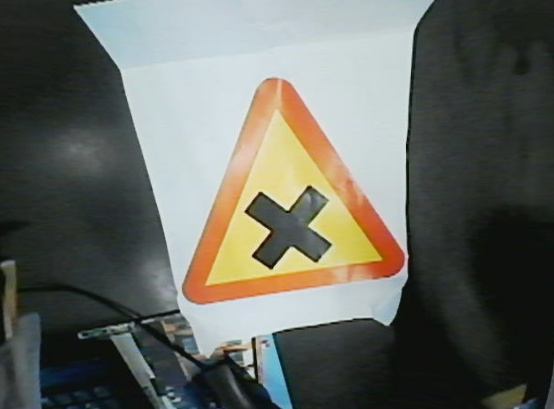junction: (159, 68, 454, 334)
